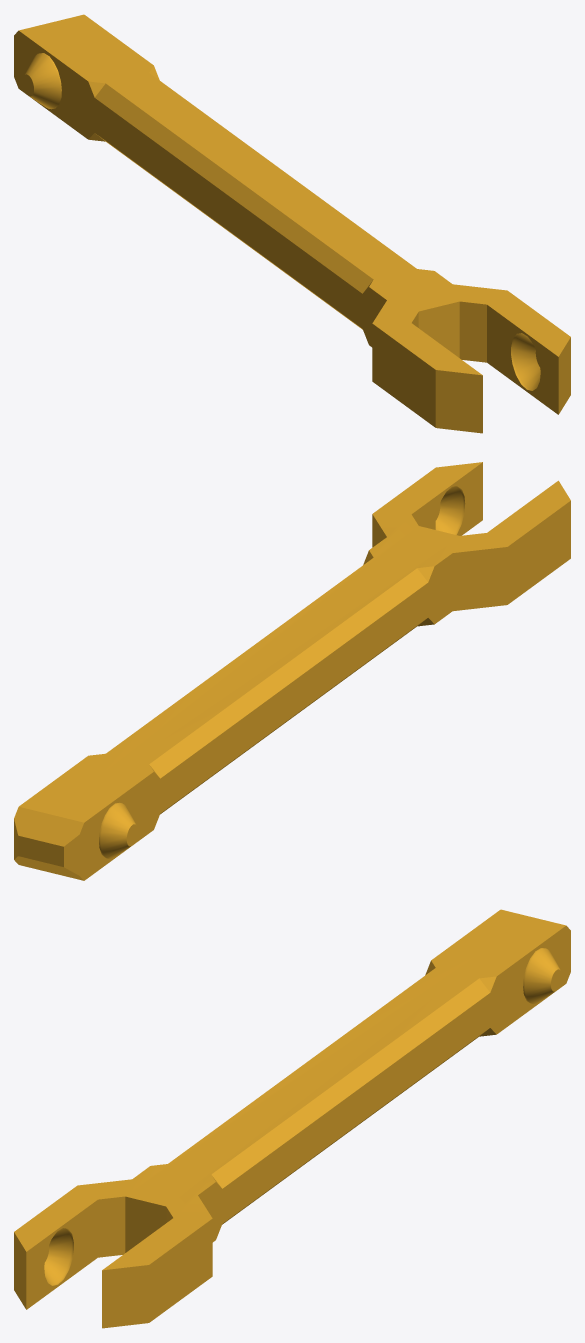
Rendered from inserter-arm-long-upper.glb.
3 views of the same model, one above another, from view 1: azimuth 30°, elevation 25°; view 2: azimuth 150°, elevation 25°; view 3: azimuth 330°, elevation 25° (orthographic).
Visible parts, largest first — view 1: body; view 2: body; view 3: body.
Boxes of the visible parts, box(x1,y1,x2,y2) form: body: box(14, 14, 570, 433); body: box(14, 462, 570, 880); body: box(14, 909, 570, 1328).
Size of the model in its own units: 0.2197 by 0.0905 by 1.35.
